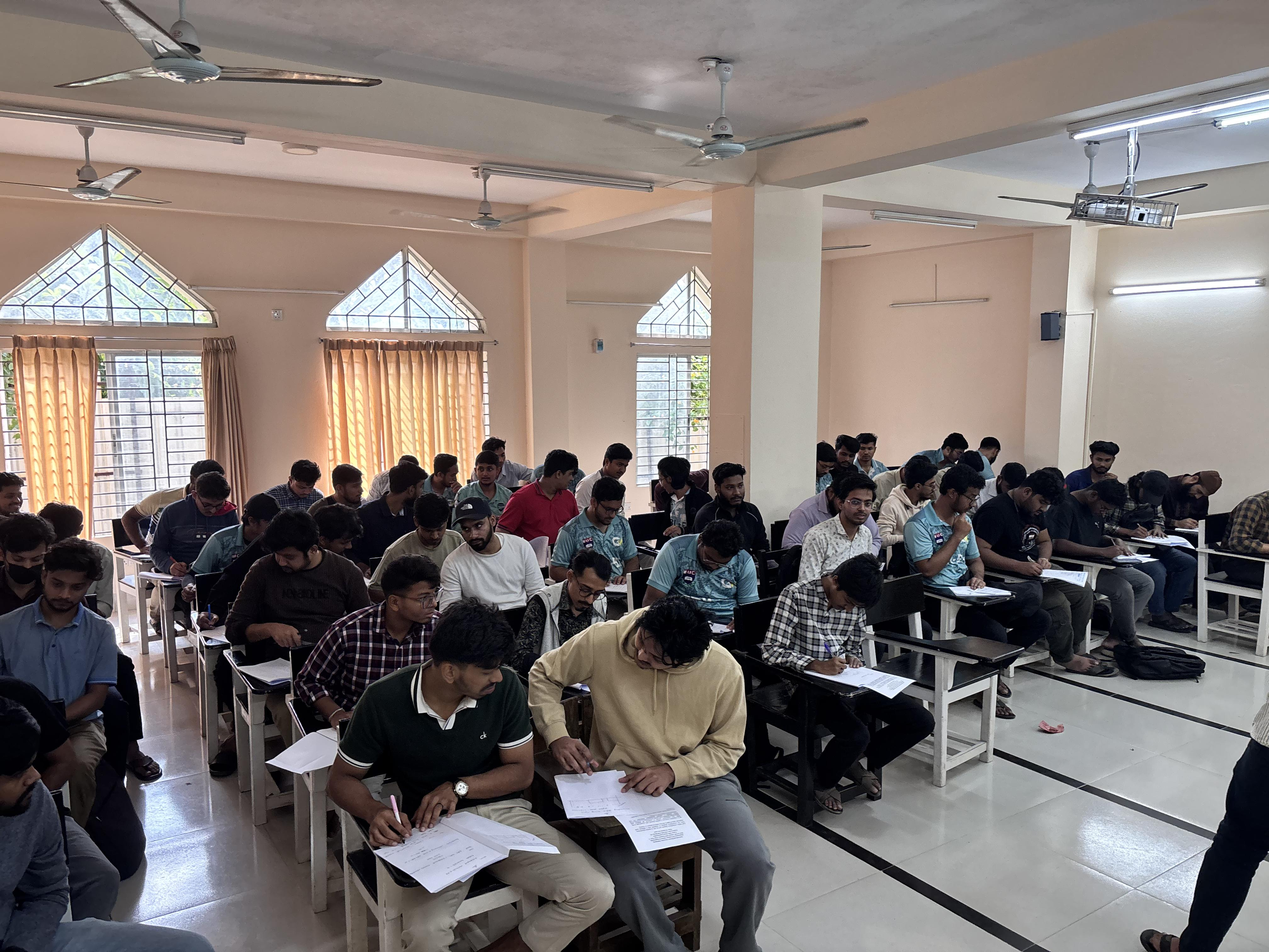copying: (341, 596, 545, 892), (234, 513, 345, 671), (526, 448, 573, 524), (311, 498, 363, 563), (387, 459, 431, 507), (655, 456, 690, 511), (898, 456, 936, 505), (428, 447, 462, 492)
hidden_communication: (451, 499, 518, 596)
no_cheating: (0, 543, 138, 696), (799, 550, 902, 721), (911, 463, 1006, 628), (336, 553, 449, 671), (992, 469, 1062, 613), (673, 520, 761, 619), (1120, 467, 1183, 567), (1072, 477, 1131, 581), (826, 475, 891, 564), (391, 494, 468, 564), (571, 486, 639, 564), (548, 554, 606, 628), (1170, 462, 1227, 533), (0, 512, 52, 586), (704, 465, 759, 517), (279, 456, 325, 516), (1075, 435, 1126, 482), (328, 463, 370, 517), (595, 441, 640, 486), (932, 430, 972, 478), (0, 469, 36, 519), (974, 434, 1006, 476), (832, 431, 861, 476), (854, 423, 883, 468), (811, 438, 837, 484)
suspicious_moving: (0, 693, 102, 900), (158, 476, 234, 564), (461, 449, 509, 500)
